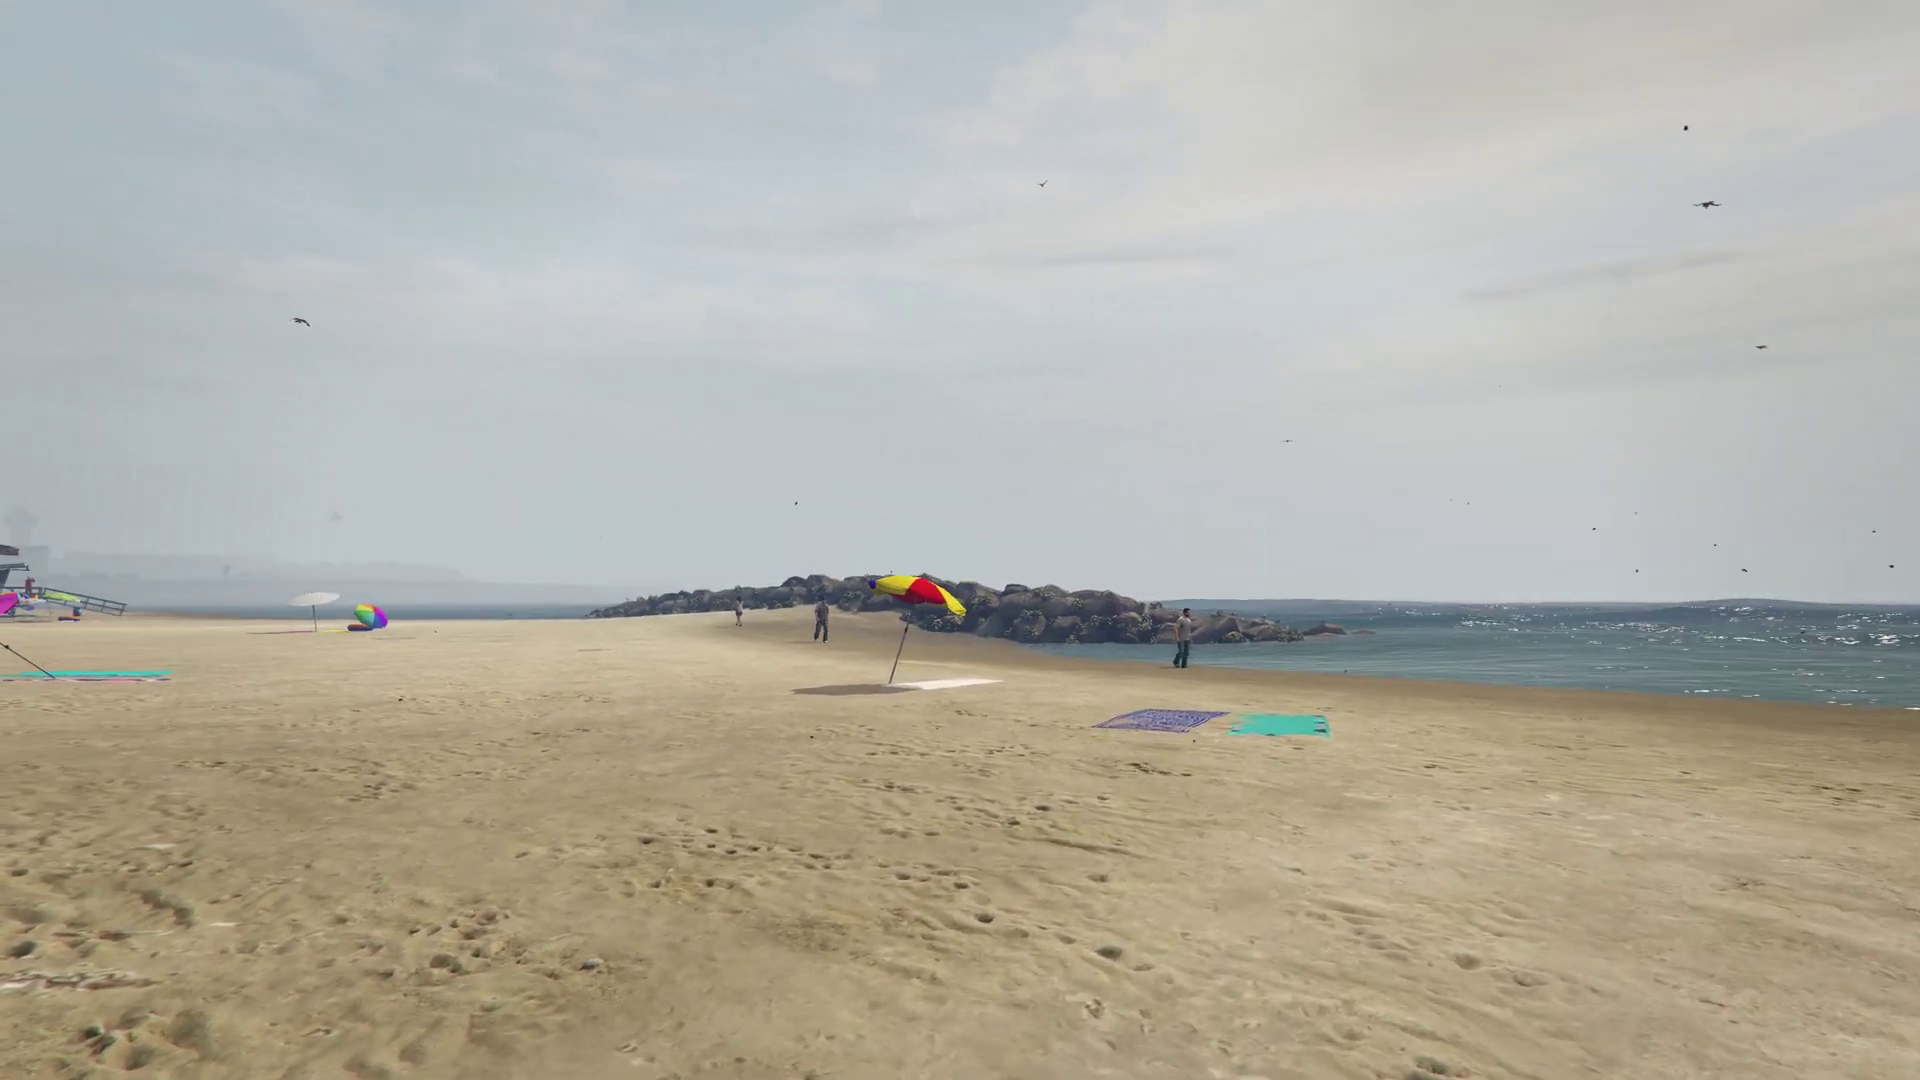person: (1172, 609, 1193, 668), (812, 597, 829, 642), (734, 597, 743, 626)
